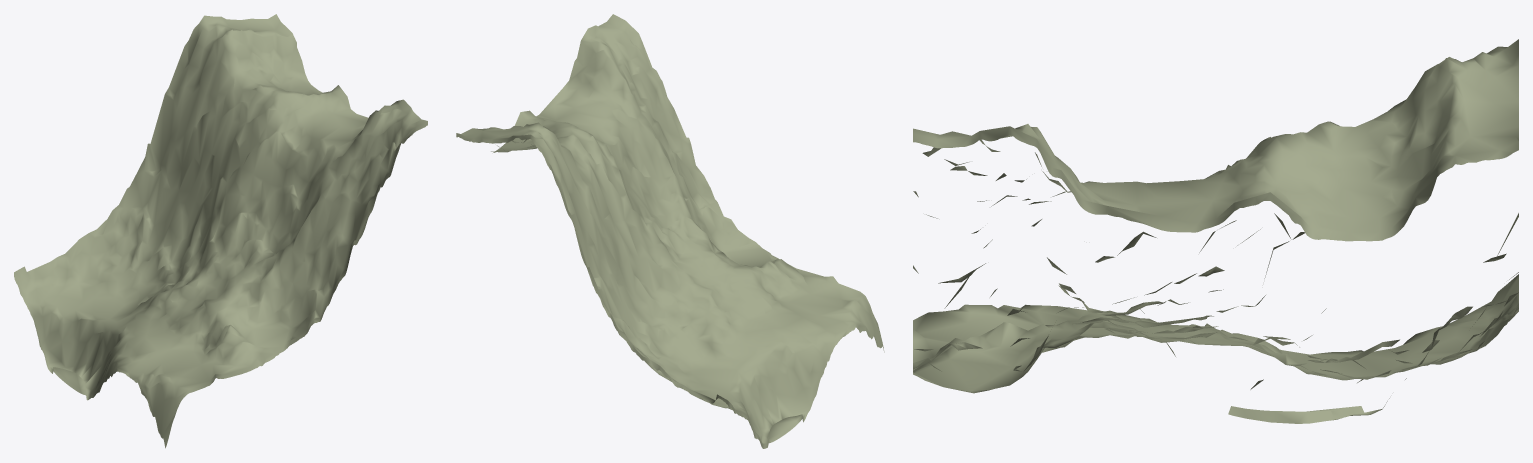
The model's file is terrain_r2_c3_lod1.glb.
3 renders of one model, left to right at view 1: azimuth 30°, elevation 25°; view 2: azimuth 150°, elevation 25°; view 3: azimuth 270°, elevation 25°, orthographic. The views are drawn at different scales.
Visible parts, largest first — view 1: terrain_r2_c3_lod1; view 2: terrain_r2_c3_lod1; view 3: terrain_r2_c3_lod1.
Boxes of the visible parts, x1,y1,x2,y2 form: terrain_r2_c3_lod1: (14,14,427,448); terrain_r2_c3_lod1: (456,14,884,448); terrain_r2_c3_lod1: (913,39,1518,423).
Size of the model in its own units: 50 by 51.89 by 50.
